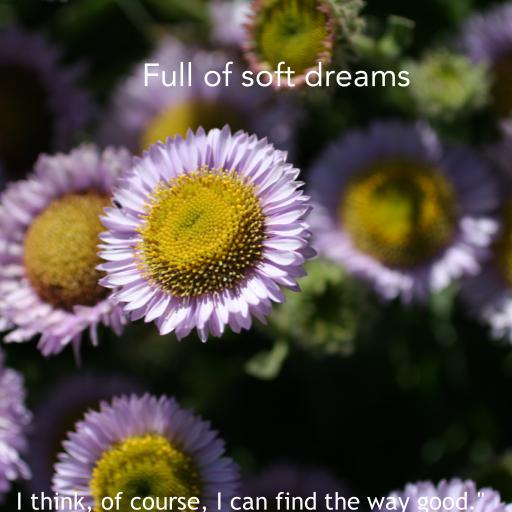Avenir: (141, 61, 411, 87)
Trebuchet MS: (15, 491, 485, 512)
